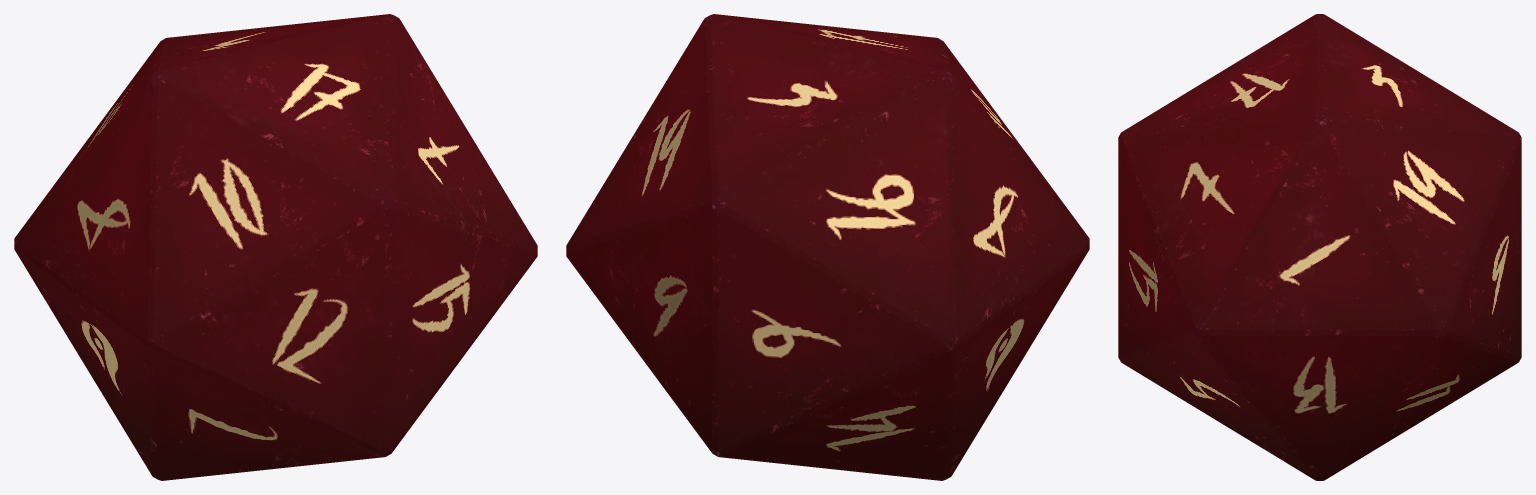
Rendered from DragonGem_d20.glb.
3 views of the same model, side by side, from view 1: azimuth 30°, elevation 25°; view 2: azimuth 150°, elevation 25°; view 3: azimuth 270°, elevation 25° (orthographic). The views are drawn at different scales.
Visible parts, largest first — view 1: dragongem_d20; view 2: dragongem_d20; view 3: dragongem_d20.
Boxes of the visible parts, x1=… form: dragongem_d20: x1=14, y1=14, x2=537, y2=480; dragongem_d20: x1=566, y1=14, x2=1089, y2=480; dragongem_d20: x1=1118, y1=14, x2=1521, y2=480.
Size of the model in its own units: 170 by 170 by 170.
1 material, 1 textured.
